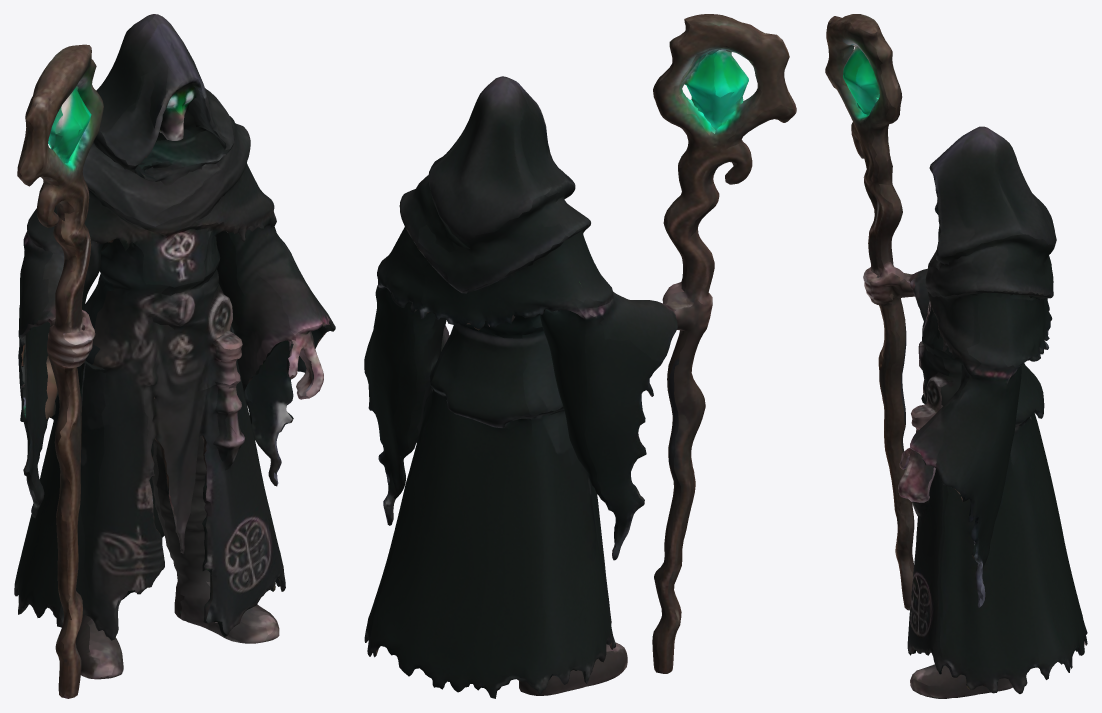
File: bishop.glb
The picture shows the model from 3 angles, left to right: view 1: azimuth 30°, elevation 25°; view 2: azimuth 150°, elevation 25°; view 3: azimuth 270°, elevation 25°; orthographic projection. The views are drawn at different scales.
Visible parts, largest first — view 1: tmp0yoxcz57.ply; view 2: tmp0yoxcz57.ply; view 3: tmp0yoxcz57.ply.
Part boxes in pixels (x1,y1,x2,y2): tmp0yoxcz57.ply: (14,14,335,698); tmp0yoxcz57.ply: (364,14,796,698); tmp0yoxcz57.ply: (825,14,1087,698).
Bounding box in the file's own units: 0.5882 × 0.9878 × 0.4064.
1 material, 1 textured.
